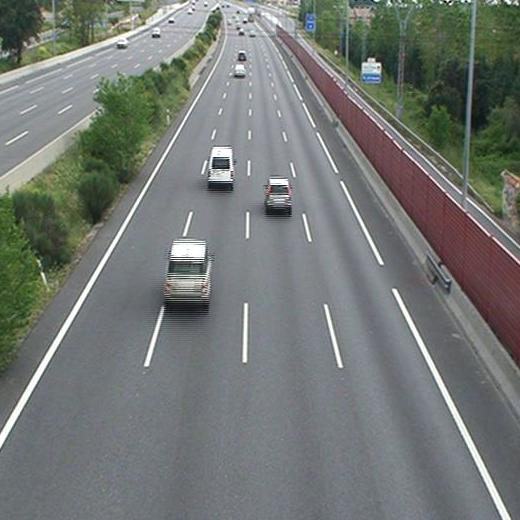car: (166, 240, 210, 298), (265, 180, 292, 208), (234, 64, 246, 77), (237, 51, 246, 61)
van: (207, 148, 235, 182)
